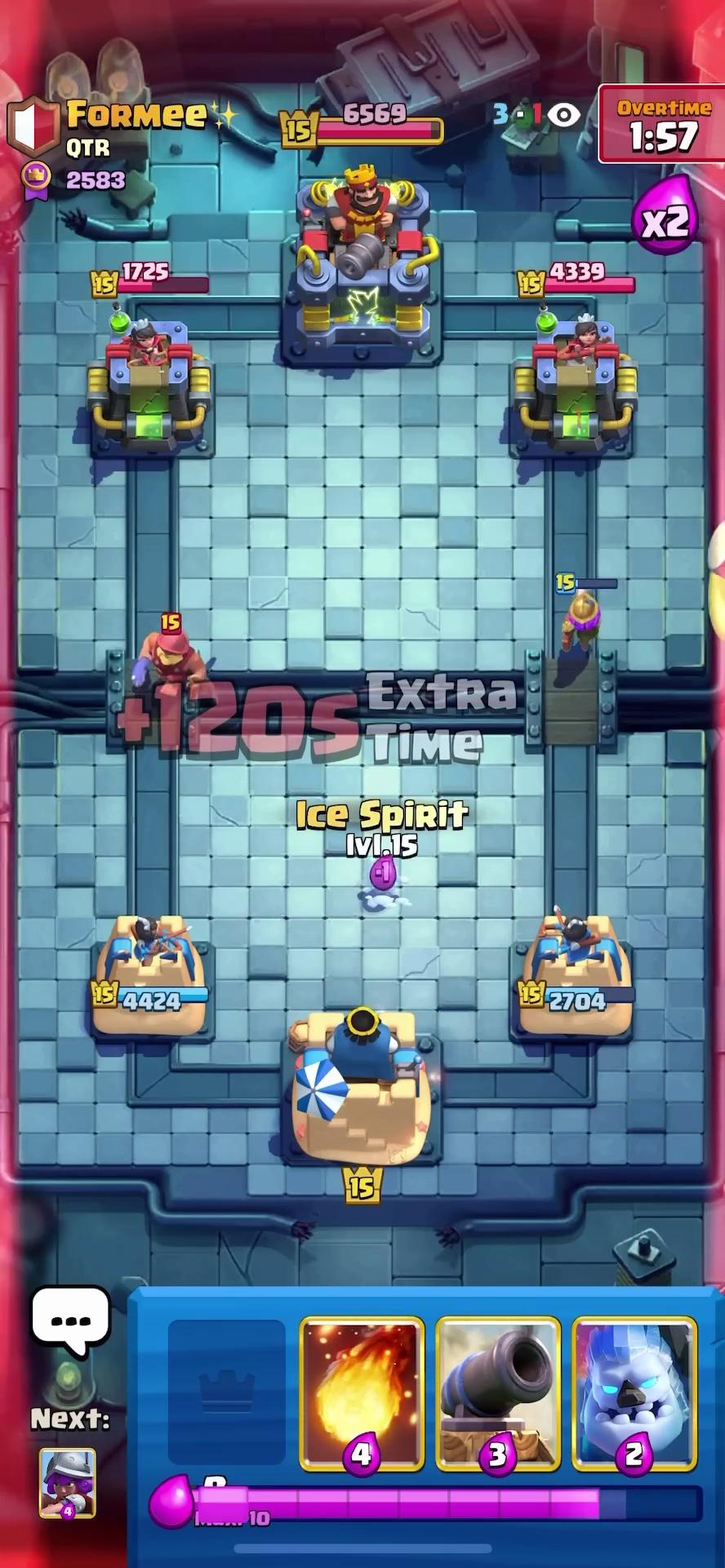musketeer: (553, 576, 616, 651)
